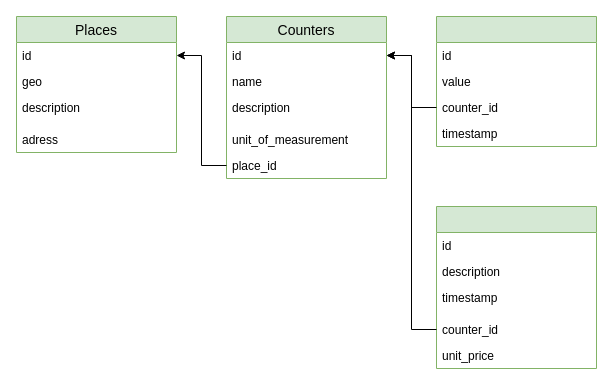
The diagram is 613 pixels wide and 385 high, and some of its shapes have lost their labels. Here are the shapes that lost their labels. From the top down, the box of each, then its label:
(436, 16, 596, 146): Reading
(436, 206, 596, 368): Rates
